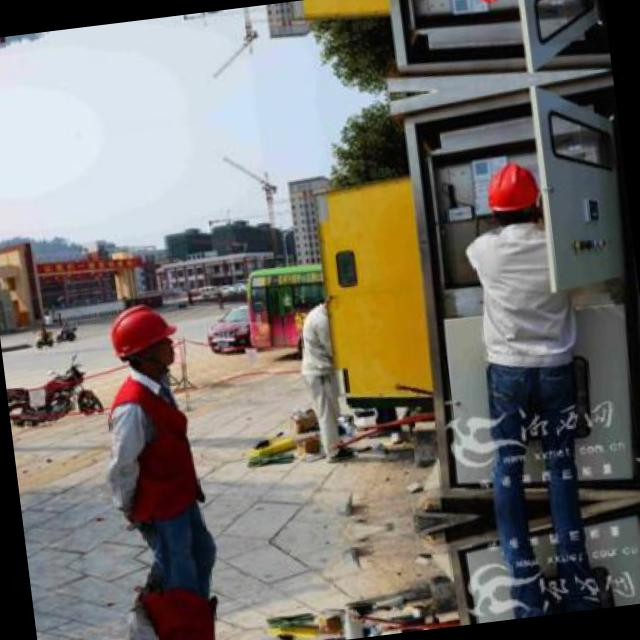helmet: (98, 292, 188, 386), (474, 153, 544, 234), (452, 0, 516, 13)
